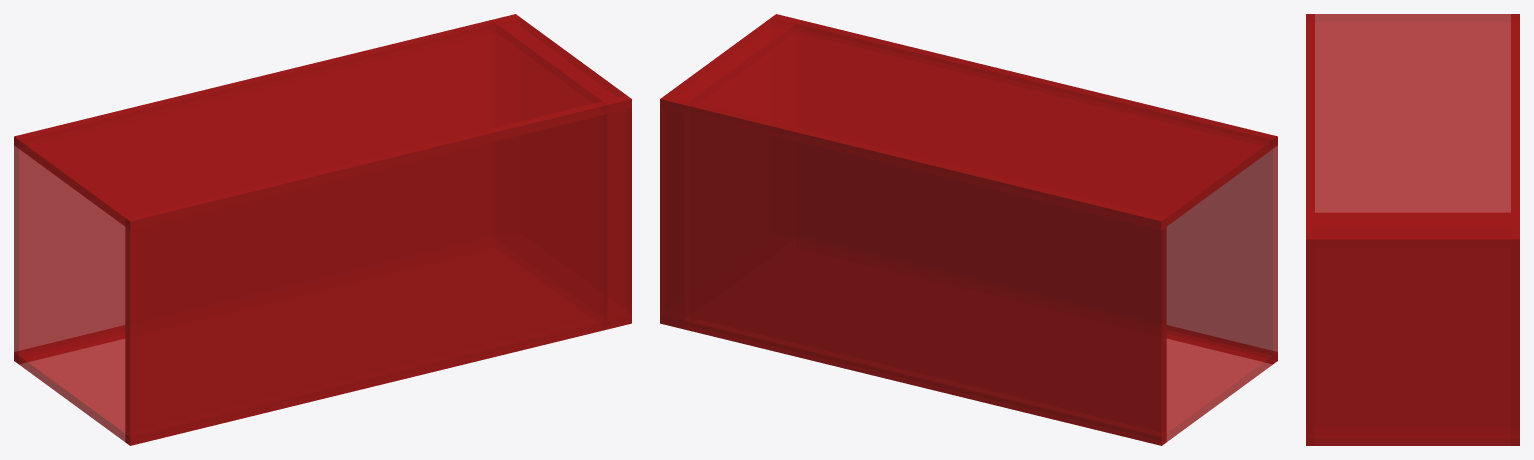
File: SM_Prop_Container_Chilled_Doors_01_Collision.fbx
3 renders of one model, left to right at view 1: azimuth 30°, elevation 25°; view 2: azimuth 150°, elevation 25°; view 3: azimuth 270°, elevation 25°, orthographic. The views are drawn at different scales.
Parts seen in each view (by area): view 1: SM_Prop_Container_Chilled_Doors_01_Collision; view 2: SM_Prop_Container_Chilled_Doors_01_Collision; view 3: SM_Prop_Container_Chilled_Doors_01_Collision.
Part boxes in pixels (x1,y1,x2,y2): SM_Prop_Container_Chilled_Doors_01_Collision: (14, 14, 631, 445); SM_Prop_Container_Chilled_Doors_01_Collision: (660, 14, 1277, 445); SM_Prop_Container_Chilled_Doors_01_Collision: (1306, 14, 1519, 445).
Bounding box in the file's own units: 606 × 259 × 243.
